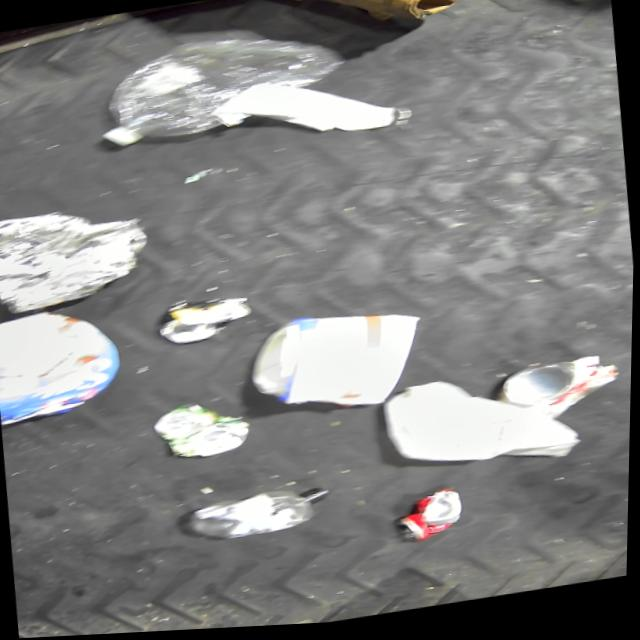can: (153, 396, 256, 468), (154, 291, 255, 352), (393, 491, 467, 551), (498, 365, 584, 413)
milk_jug: (379, 364, 586, 491)
non_white_jug: (0, 298, 132, 429)
plastic_bottle: (93, 24, 348, 152)
